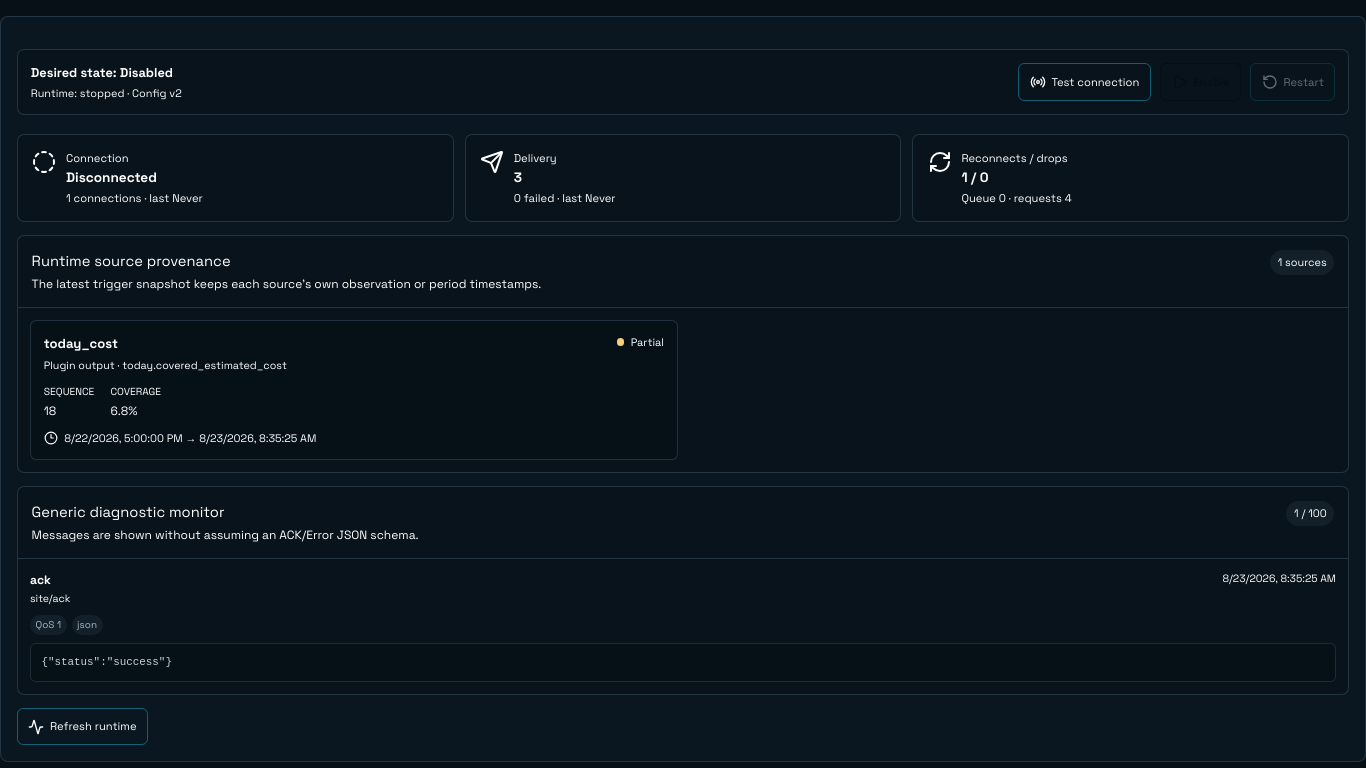
Test: MQTTPublisherOperations › runs a non-publishing connection test and displays generic diagnostics
expect the text "{\"status\":\"success\"}" is shown: met, box [30,643,1336,682]
Step 1. Click the button "Test connection" → (1085, 82), box [1018,63,1151,101]
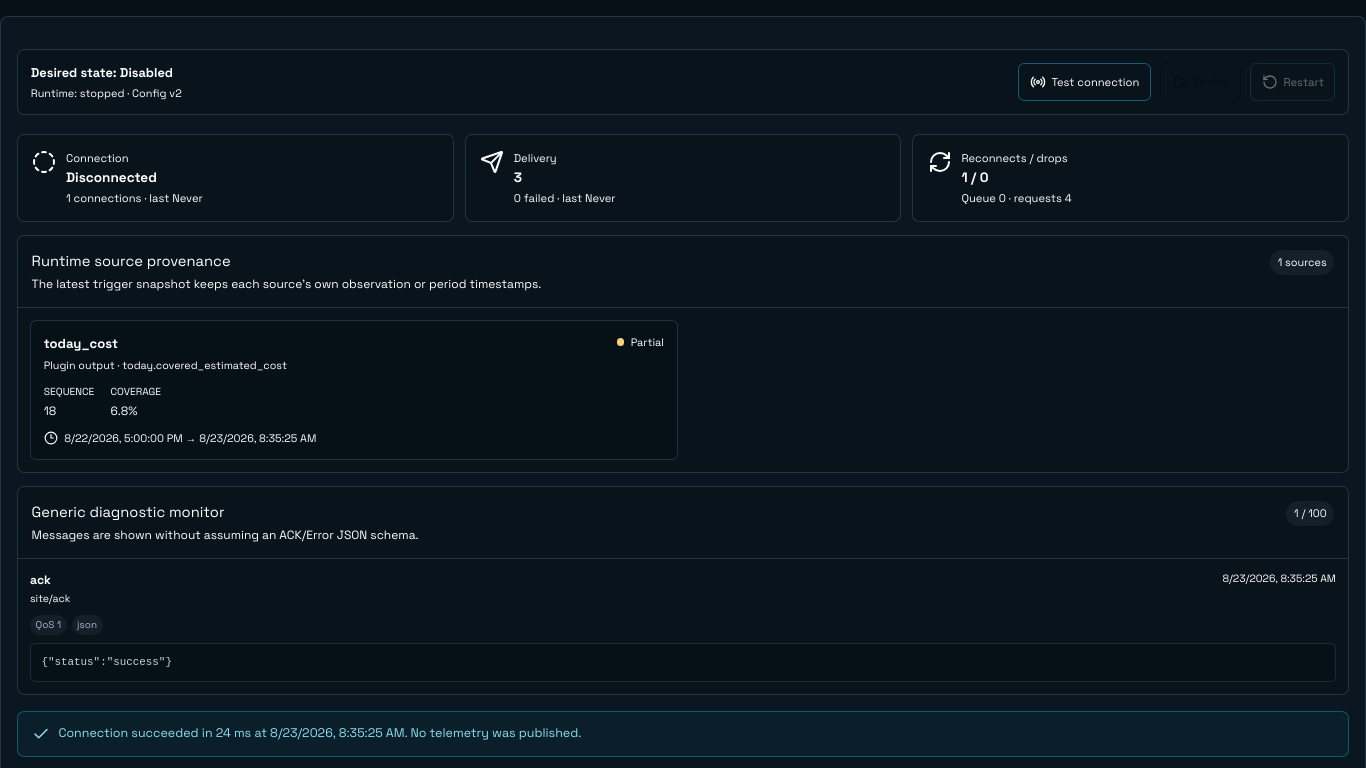
expect the text "site/ack" is shown: met, box [30,591,70,607]
expect the message shows "No telemetry was published": met, box [58,725,581,741]
